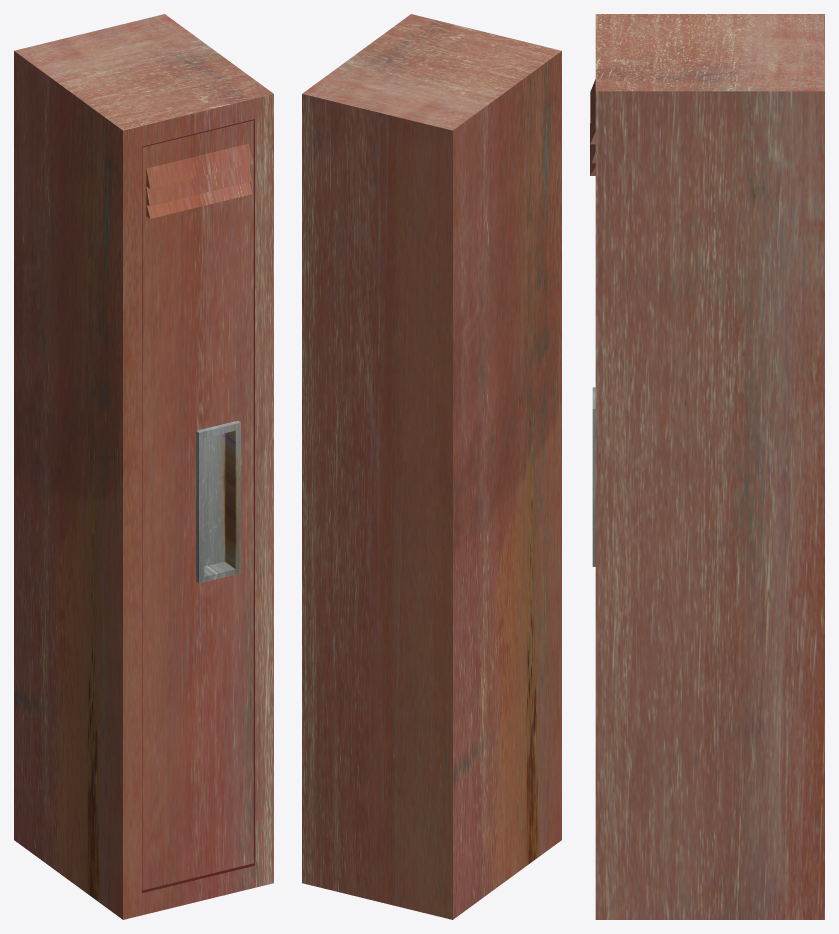
The model's file is Locker_alone.fbx.
The picture shows the model from 3 angles, left to right: view 1: azimuth 30°, elevation 25°; view 2: azimuth 150°, elevation 25°; view 3: azimuth 270°, elevation 25°; orthographic projection. The views are drawn at different scales.
Visible parts, largest first — view 1: Outside, Door, Handle, Inside; view 2: Outside; view 3: Outside, Handle, Door.
Part boxes in pixels (x1=…): Outside: x1=14, y1=14, x2=273, y2=919; Door: x1=142, y1=120, x2=253, y2=890; Handle: x1=196, y1=421, x2=240, y2=583; Inside: x1=142, y1=119, x2=254, y2=892; Outside: x1=302, y1=14, x2=561, y2=919; Outside: x1=595, y1=14, x2=824, y2=919; Handle: x1=592, y1=387, x2=595, y2=566; Door: x1=590, y1=79, x2=595, y2=175.
Size of the model in its own units: 0.304 by 1.52 by 0.3904.
Materials: 3 (2 with a texture image).
